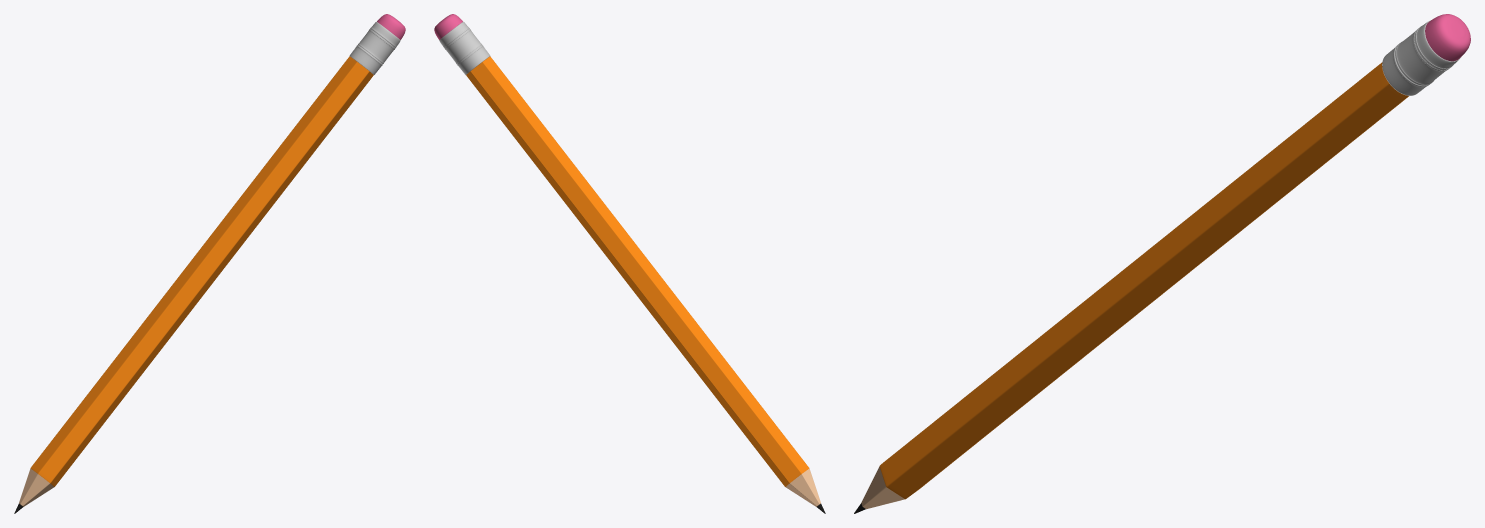
The model's file is Pencil.fbx.
3 renders of one model, left to right at view 1: azimuth 30°, elevation 25°; view 2: azimuth 150°, elevation 25°; view 3: azimuth 330°, elevation 25°, orthographic. The views are drawn at different scales.
Visible parts, largest first — view 1: Main, Metal; view 2: Main, Metal; view 3: Main, Metal, Eraser.
Boxes of the visible parts, bbox=[...] form: Main: bbox=[14, 56, 373, 513]; Metal: bbox=[349, 21, 400, 74]; Main: bbox=[466, 56, 825, 513]; Metal: bbox=[439, 21, 490, 74]; Main: bbox=[854, 62, 1408, 513]; Metal: bbox=[1382, 20, 1460, 95]; Eraser: bbox=[1425, 14, 1470, 61].
Bounding box in the file's own units: 118 × 118 × 8.56.
